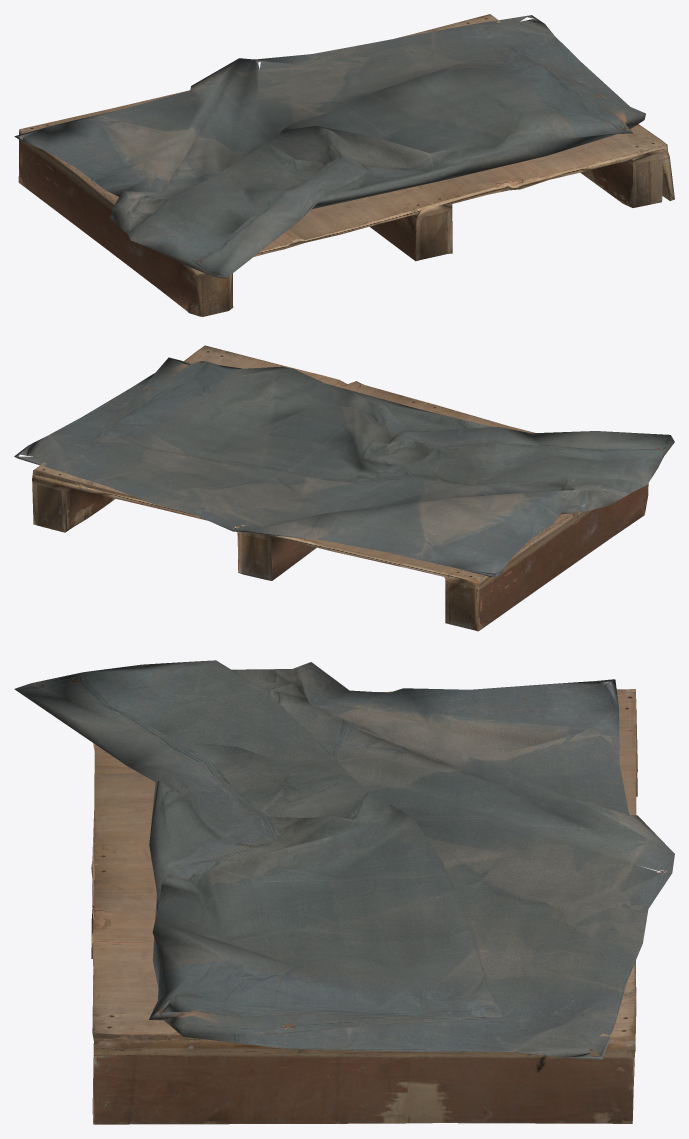
The model's file is PalletBed.fbx.
3 renders of one model, top to bottom at view 1: azimuth 30°, elevation 25°; view 2: azimuth 150°, elevation 25°; view 3: azimuth 270°, elevation 25°, orthographic. The views are drawn at different scales.
Parts seen in each view (by area): view 1: PalletBedSheet, PalletBedFrame; view 2: PalletBedSheet, PalletBedFrame; view 3: PalletBedSheet, PalletBedFrame.
Boxes of the visible parts, x1,y1,x2,y2 form: PalletBedSheet: [14, 15, 645, 278]; PalletBedFrame: [18, 14, 674, 316]; PalletBedSheet: [14, 357, 674, 577]; PalletBedFrame: [32, 345, 648, 631]; PalletBedSheet: [14, 660, 674, 1059]; PalletBedFrame: [91, 689, 637, 1124].
Size of the model in its own units: 222 by 31.33 by 157.
2 materials, 2 textured.
